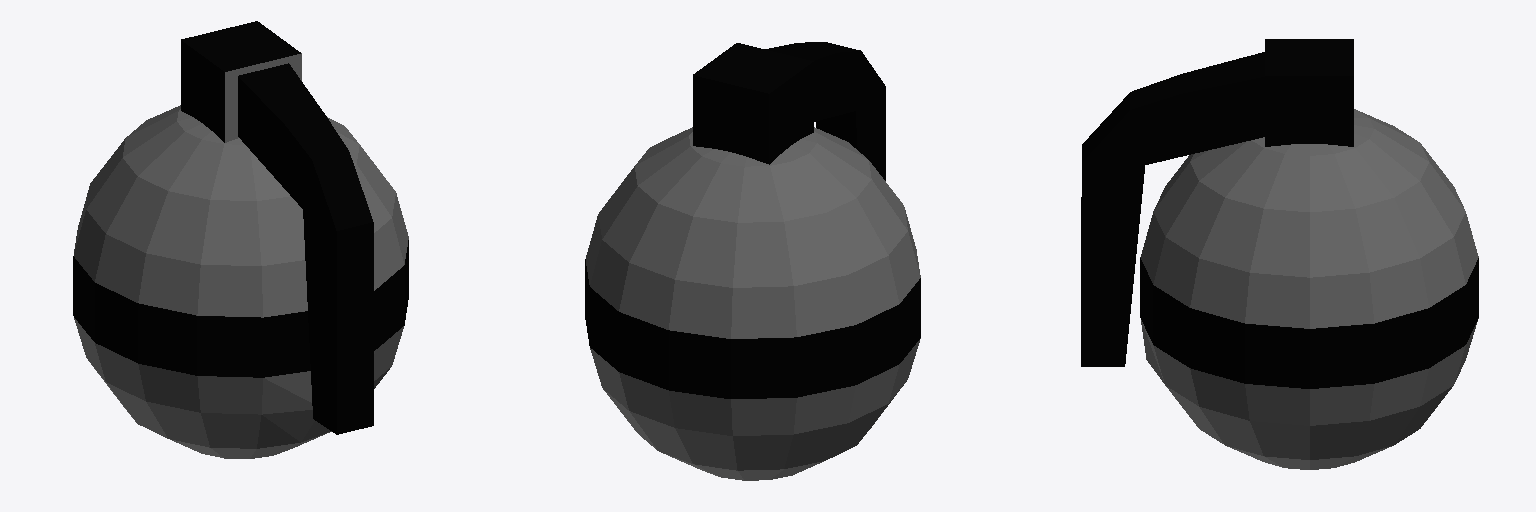
The model's file is frag.obj.
The picture shows the model from 3 angles: view 1: azimuth 30°, elevation 25°; view 2: azimuth 150°, elevation 25°; view 3: azimuth 270°, elevation 25°; orthographic projection.
Visible parts, largest first — view 1: Sphere; view 2: Sphere; view 3: Sphere.
Part boxes in pixels (x1,y1,x2,y2): Sphere: (73,21,408,458); Sphere: (585,42,920,480); Sphere: (1081,39,1478,469).
Bounding box in the file's own units: 0.1784 × 0.2311 × 0.2097.